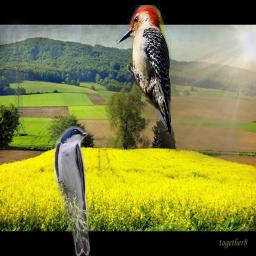Swallow: (54, 126, 91, 256)
Woodpecker: (116, 5, 171, 134)
